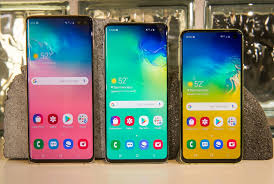huawei: (24, 13, 94, 162), (101, 21, 169, 166), (178, 28, 243, 163)
